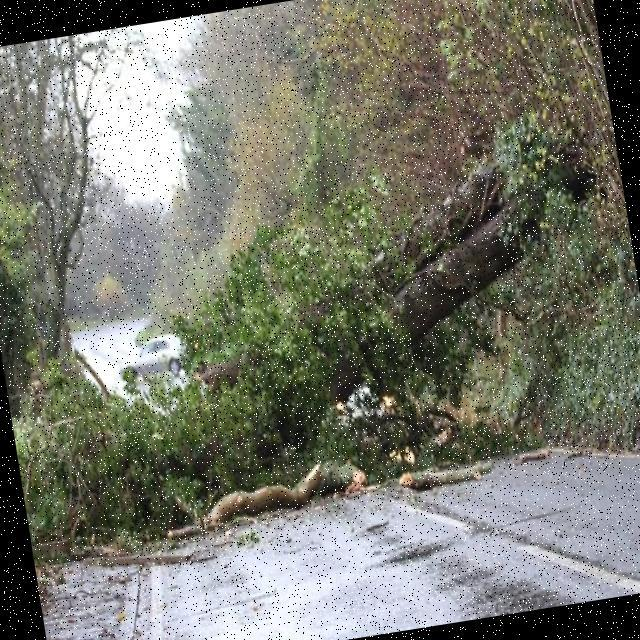fallen_object: (4, 125, 610, 478)
